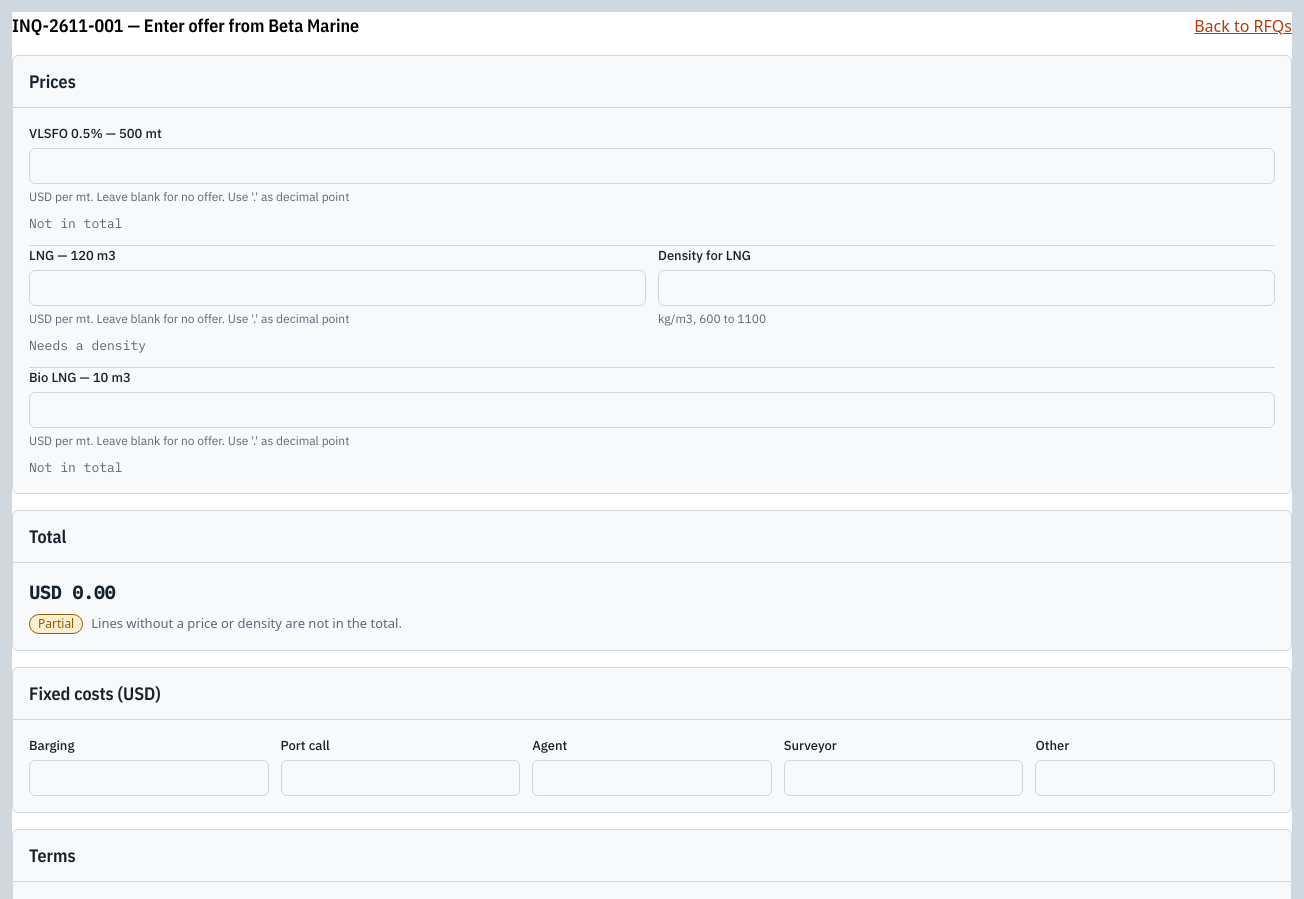
OfferEntry › [B4-R12] a density field appears only on an m3 line whose inquiry gave none (B4-D6)
The width and height of the screenshot is (1304, 899).
Expected: the text "Needs a density" is shown, [29,336,146,354]
Type "845.5" into the field labelled "LNG — 120 m3" at [338, 288], box [29,270,646,306]
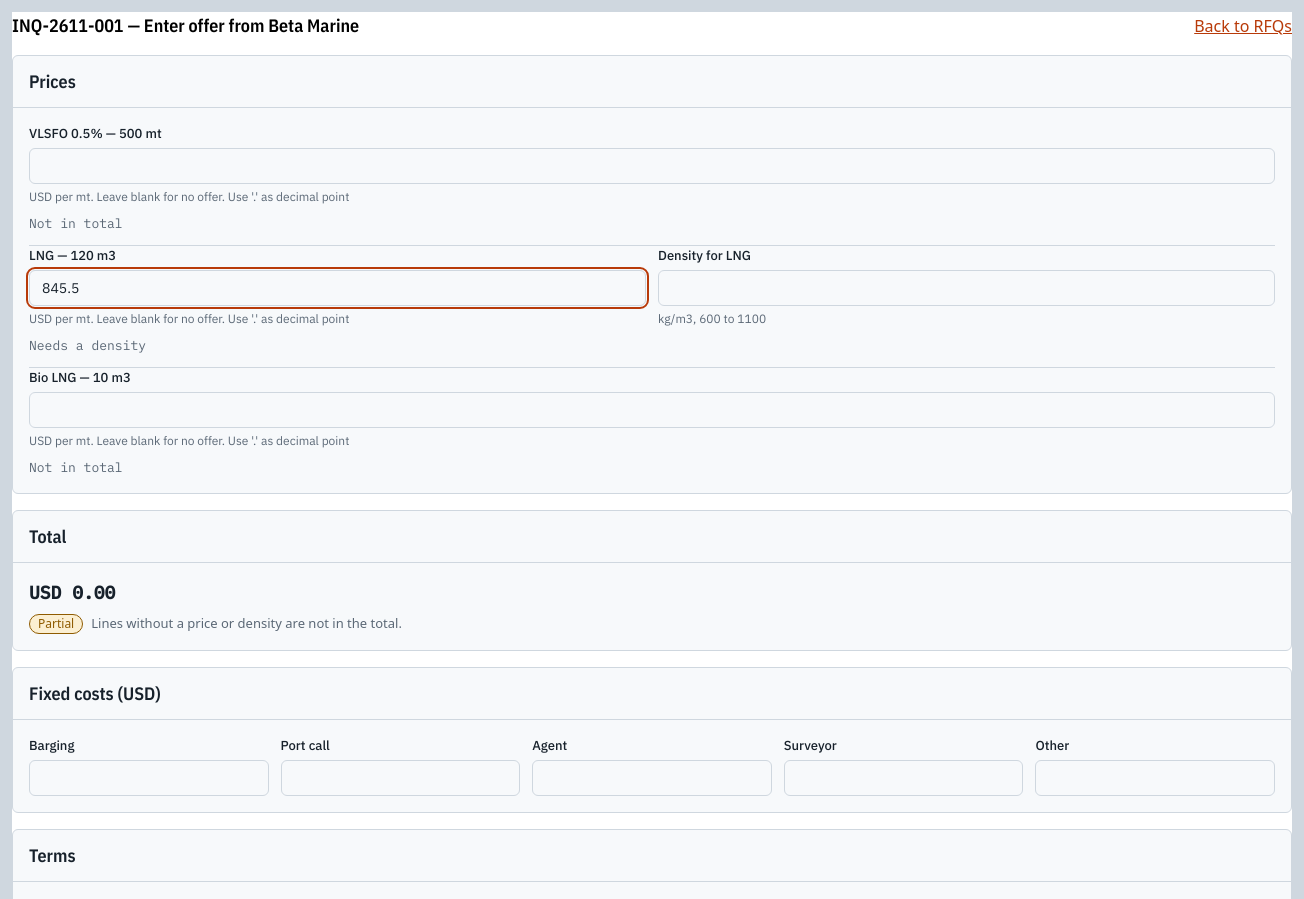
Type "850" into the field labelled "Density for LNG" at [966, 288], box [658,270,1275,306]
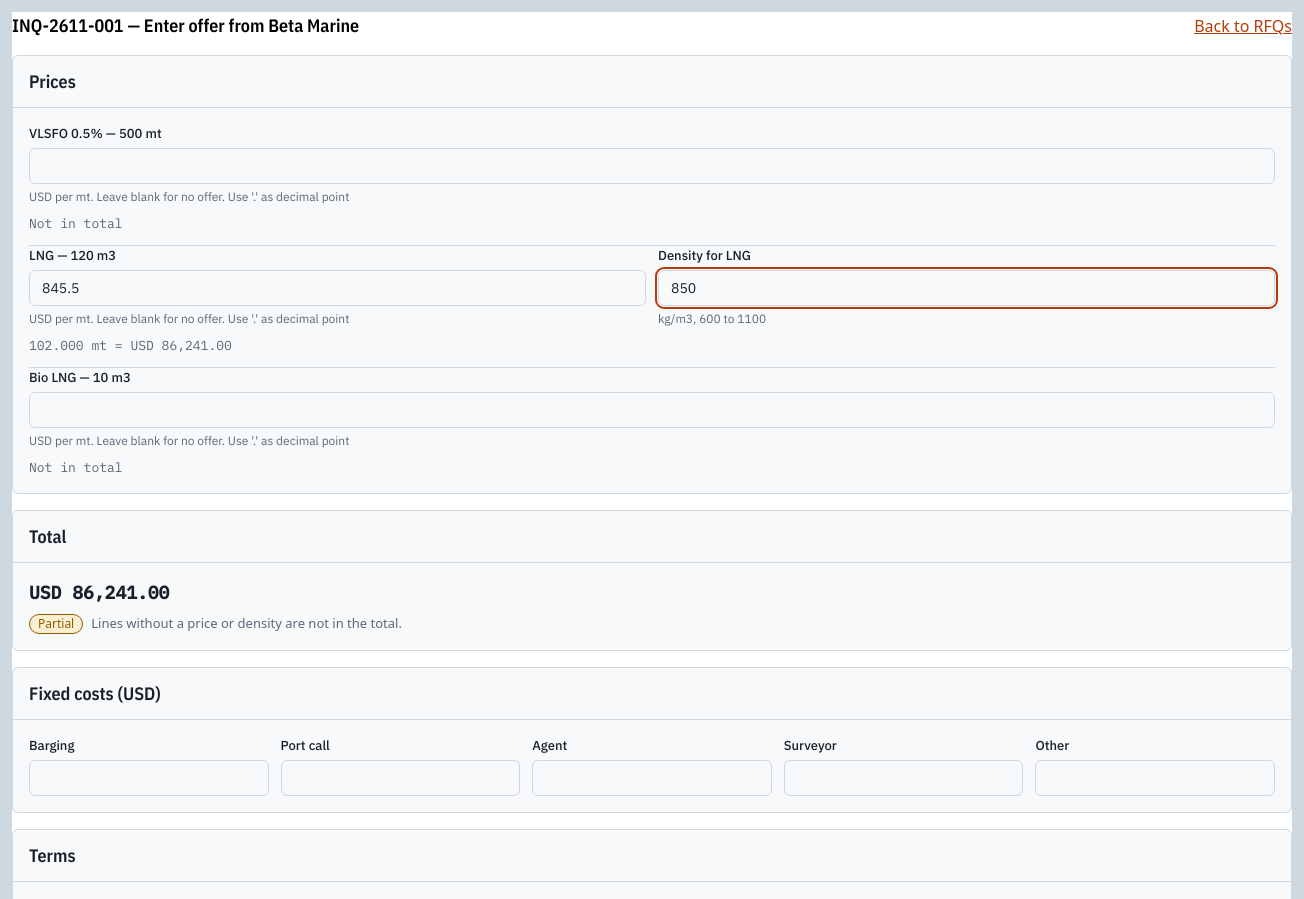
Now the text "102.000 mt = USD 86,241.00" is shown, box [29,336,232,354]
